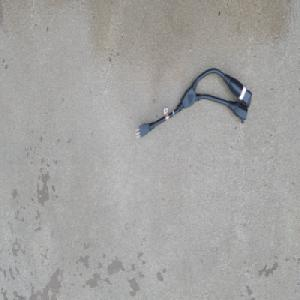Wire: (134, 66, 253, 140)
